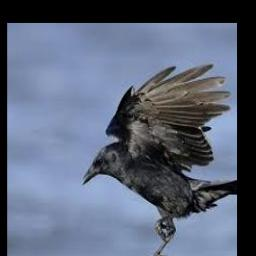Crow: (81, 63, 237, 256)
